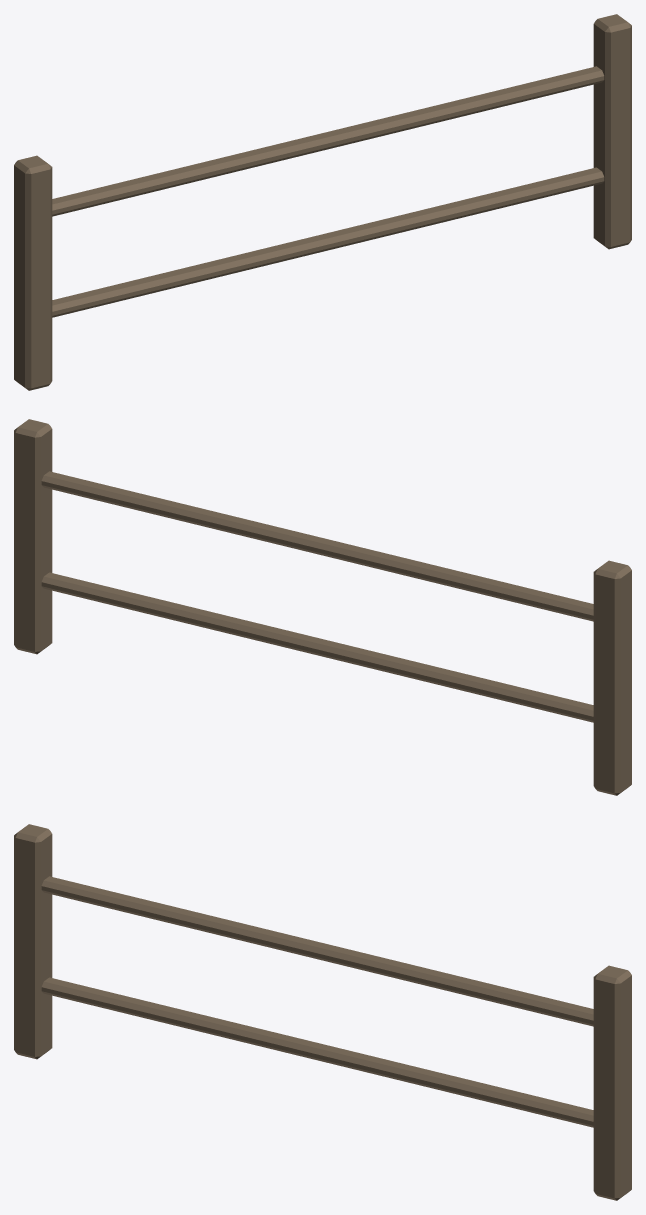
Rendered from courtyard_fence.glb.
3 renders of one model, top to bottom at view 1: azimuth 30°, elevation 25°; view 2: azimuth 150°, elevation 25°; view 3: azimuth 330°, elevation 25°, orthographic.
Parts seen in each view (by area): view 1: FencePost_-1.5; view 2: FencePost_-1.5; view 3: FencePost_-1.5.
Boxes of the visible parts, x1,y1,x2,y2 form: FencePost_-1.5: (14, 14, 631, 390); FencePost_-1.5: (14, 419, 631, 795); FencePost_-1.5: (14, 824, 631, 1200).
Bounding box in the file's own units: 3.14 × 1.1 × 0.14.
